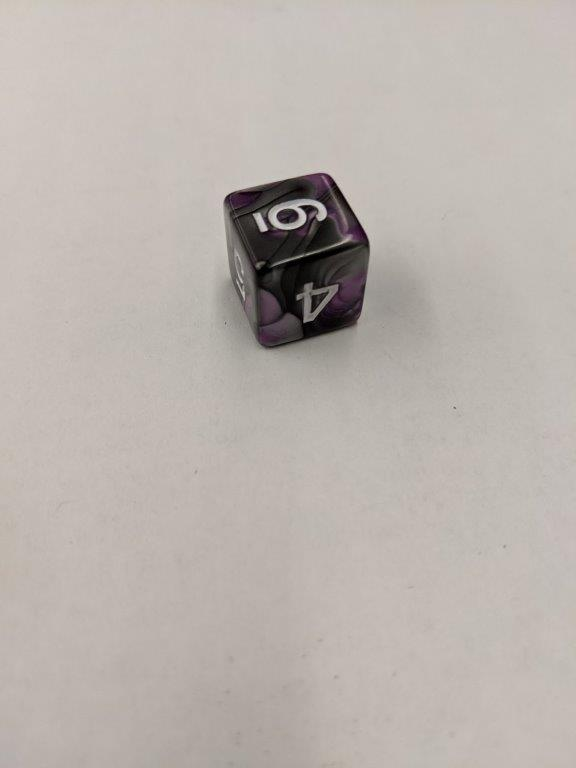d6-6: (224, 171, 372, 350)
